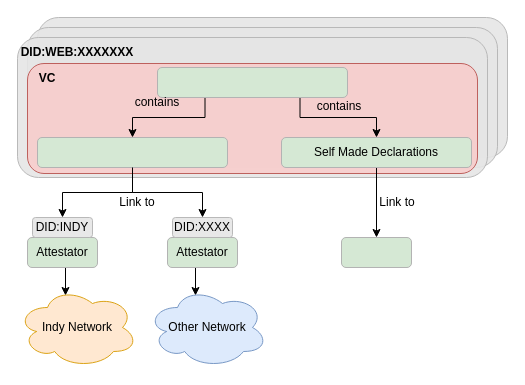
The diagram is 525 pixels wide and 385 high, and some of its shapes have lost their labels. The centre of each missing label's shape, as x and y in pixels:
Attestation References: (x=132, y=152)
Creator: (x=376, y=252)
Self Description: (x=252, y=82)
